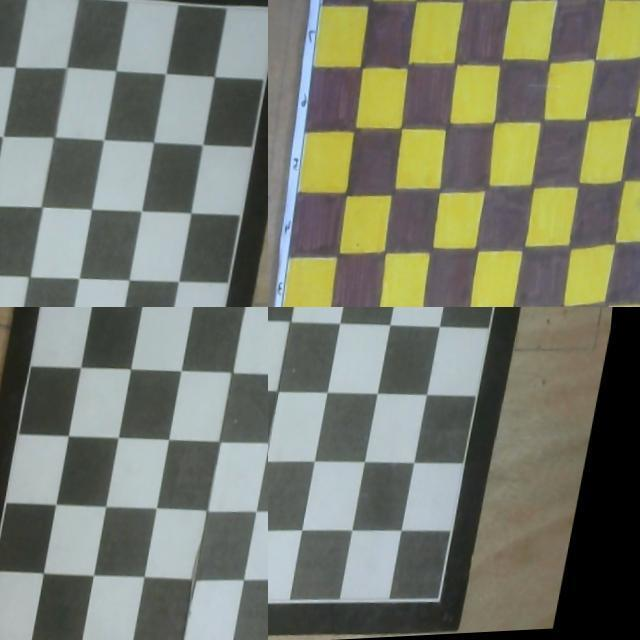chess-table-corners: (446, 601, 454, 609), (74, 307, 83, 312), (536, 307, 543, 312), (268, 589, 271, 597), (324, 0, 330, 3)
